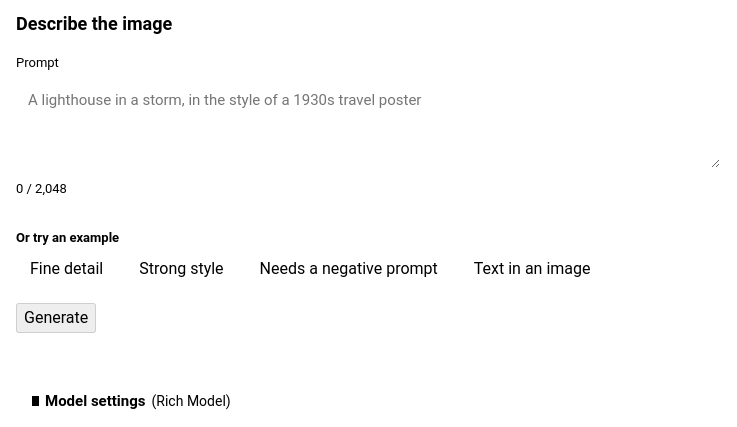
Test: CreateImageView › shows a quiet character count against the limit
The width and height of the screenshot is (737, 427).
Replace the text in the text box with id "image-prompt" with "12345" at coordinates (368, 122), box [16,76,720,168]
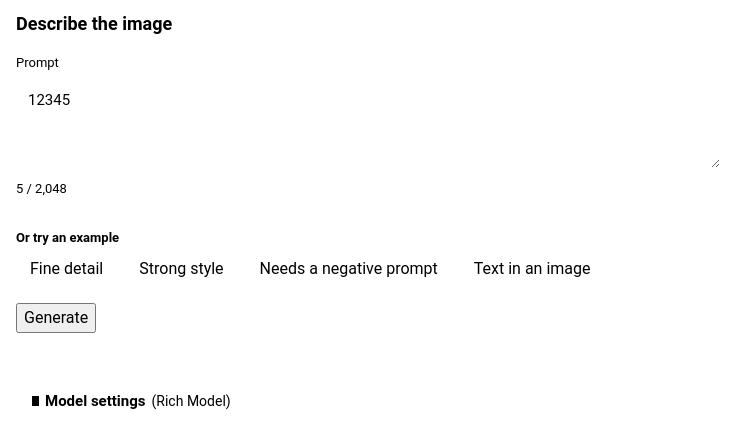
Expected: the text with class "counter" shows "5", [16,181,67,196]
